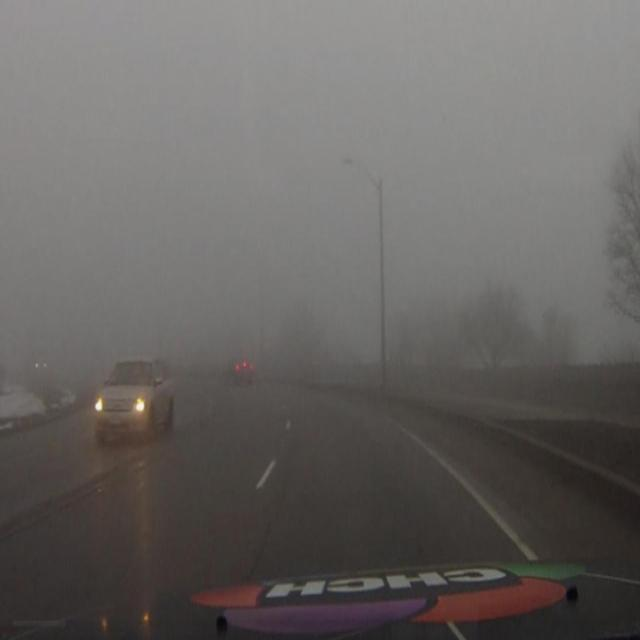Car: (93, 358, 174, 446), (233, 359, 254, 385)
